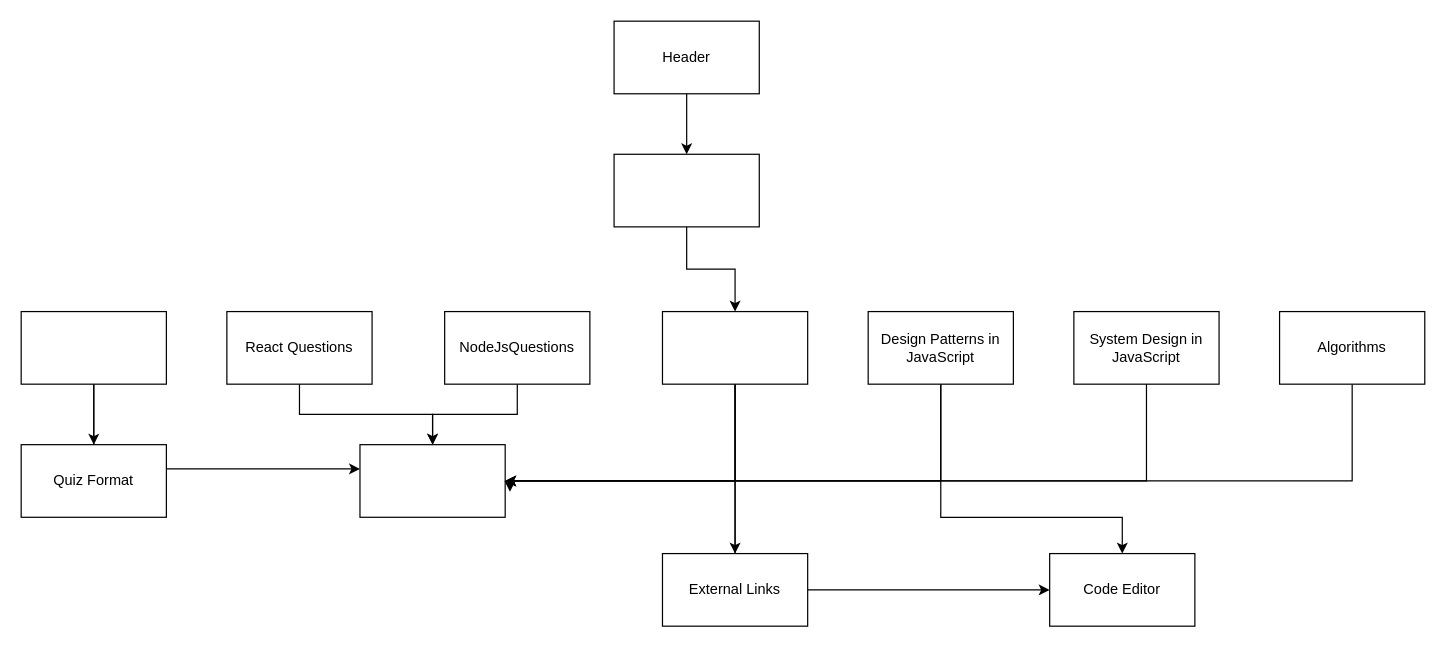
The diagram is 1446 pixels wide and 647 high, and some of its shapes have lost their labels. The box of each missing label's shape, as (x1, y1, x2, y2) in pixels:
Javascript Questions: (20, 310, 166, 384)
LeetCode Design Pattern Questions: (661, 310, 808, 384)
Navigation Bar: (613, 153, 759, 227)
Text and Answer: (359, 443, 505, 517)
